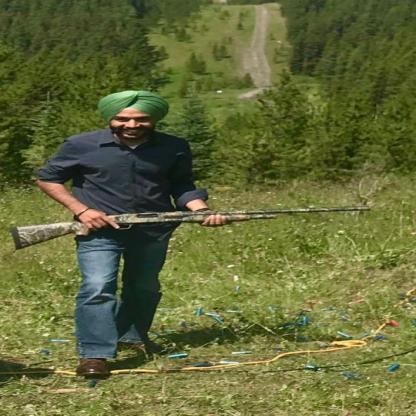rifle: (9, 206, 372, 252)
